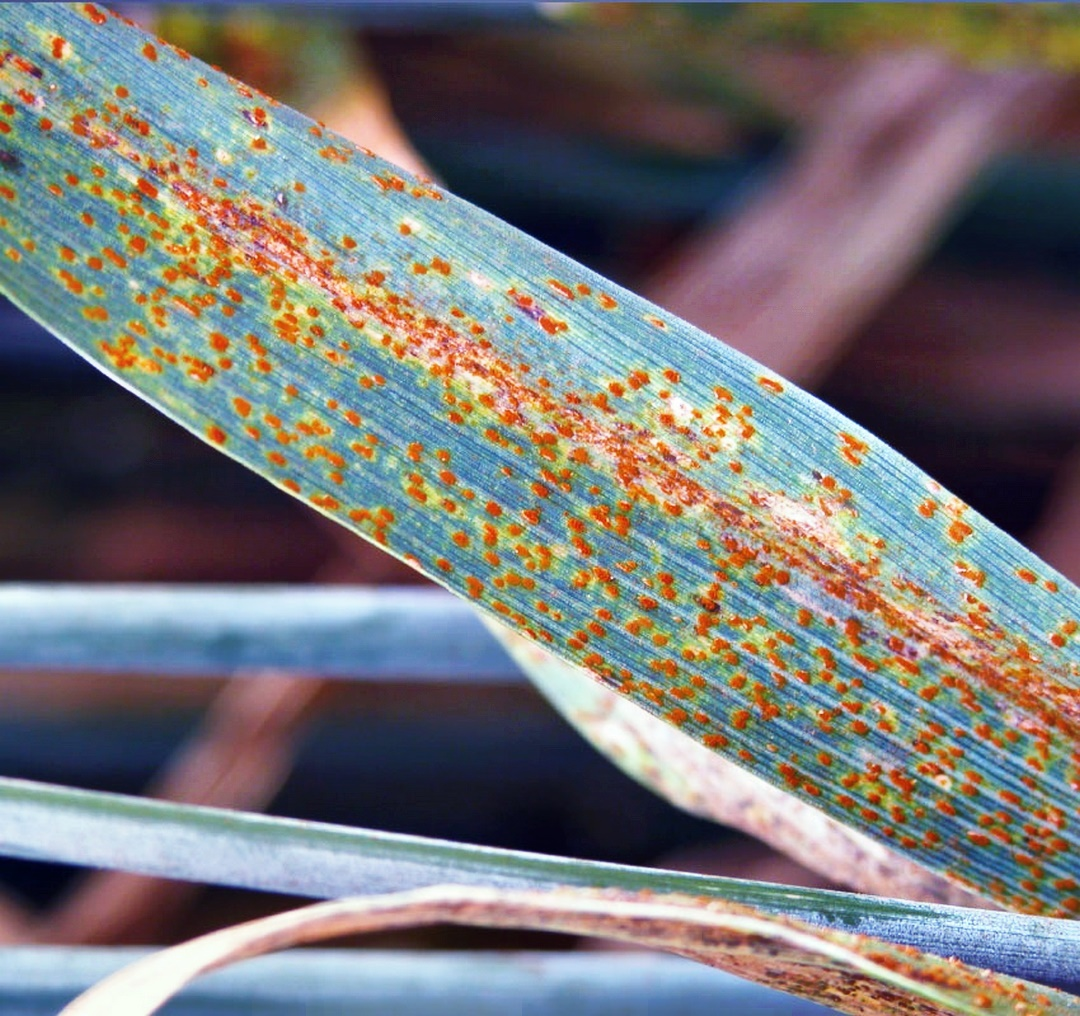Leaf Rust: (38, 82, 1043, 862)
